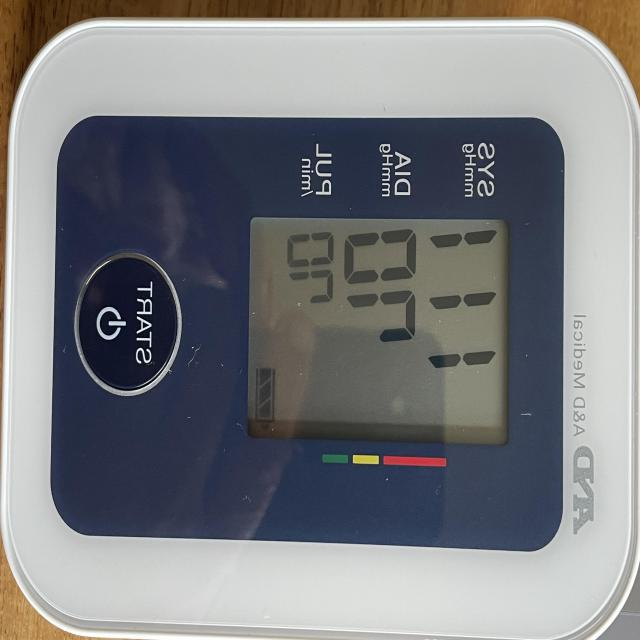bp: (0, 19, 640, 640)
